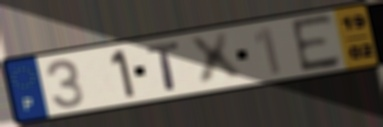1: (253, 25, 283, 76), (109, 48, 138, 100)
3: (45, 58, 86, 110)
E: (288, 11, 344, 75)
T: (144, 40, 183, 92)
X: (185, 30, 247, 89)
